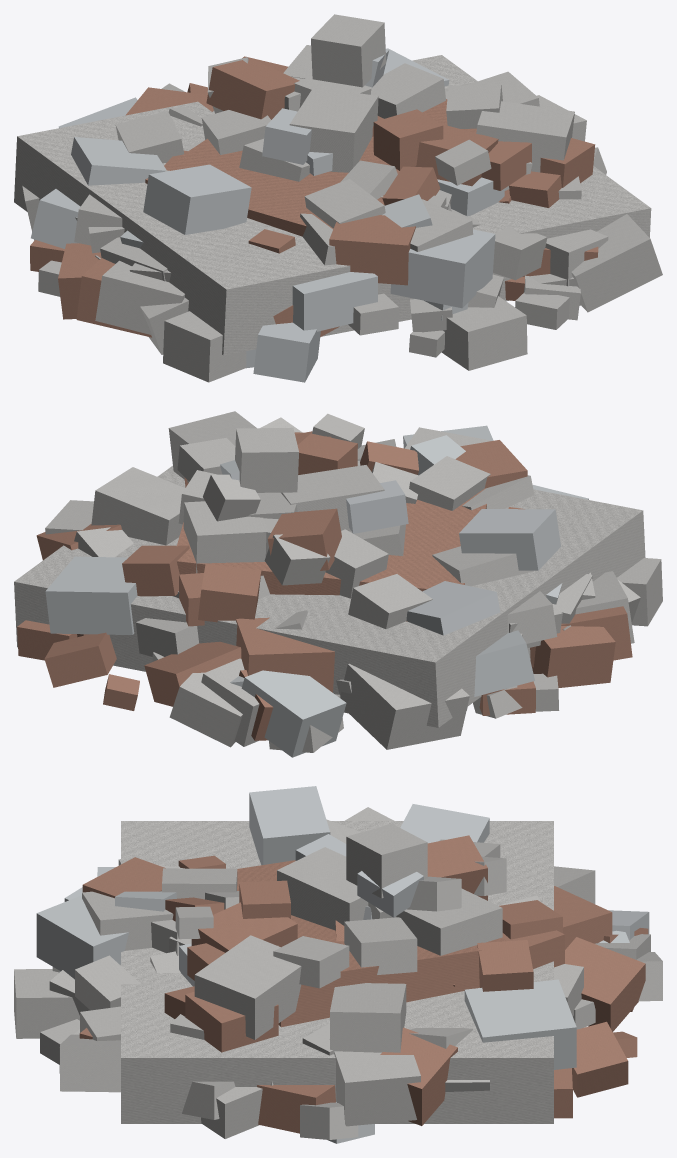
File: demolition-and-site-clearance-demolition-and-site-clea-354e3463__35679.glb
3 renders of one model, top to bottom at view 1: azimuth 30°, elevation 25°; view 2: azimuth 150°, elevation 25°; view 3: azimuth 270°, elevation 25°, orthographic. The views are drawn at different scales.
Visible parts, largest first — view 1: demolition-and-site-clearance-rubble-pile-large; view 2: demolition-and-site-clearance-rubble-pile-large; view 3: demolition-and-site-clearance-rubble-pile-large.
Part boxes in pixels (x1,y1,x2,y2): demolition-and-site-clearance-rubble-pile-large: (14, 14, 662, 382); demolition-and-site-clearance-rubble-pile-large: (14, 411, 662, 757); demolition-and-site-clearance-rubble-pile-large: (14, 786, 662, 1143).
Size of the model in its own units: 6.62 by 2.25 by 6.52.
Materials: 3 (2 with a texture image).
